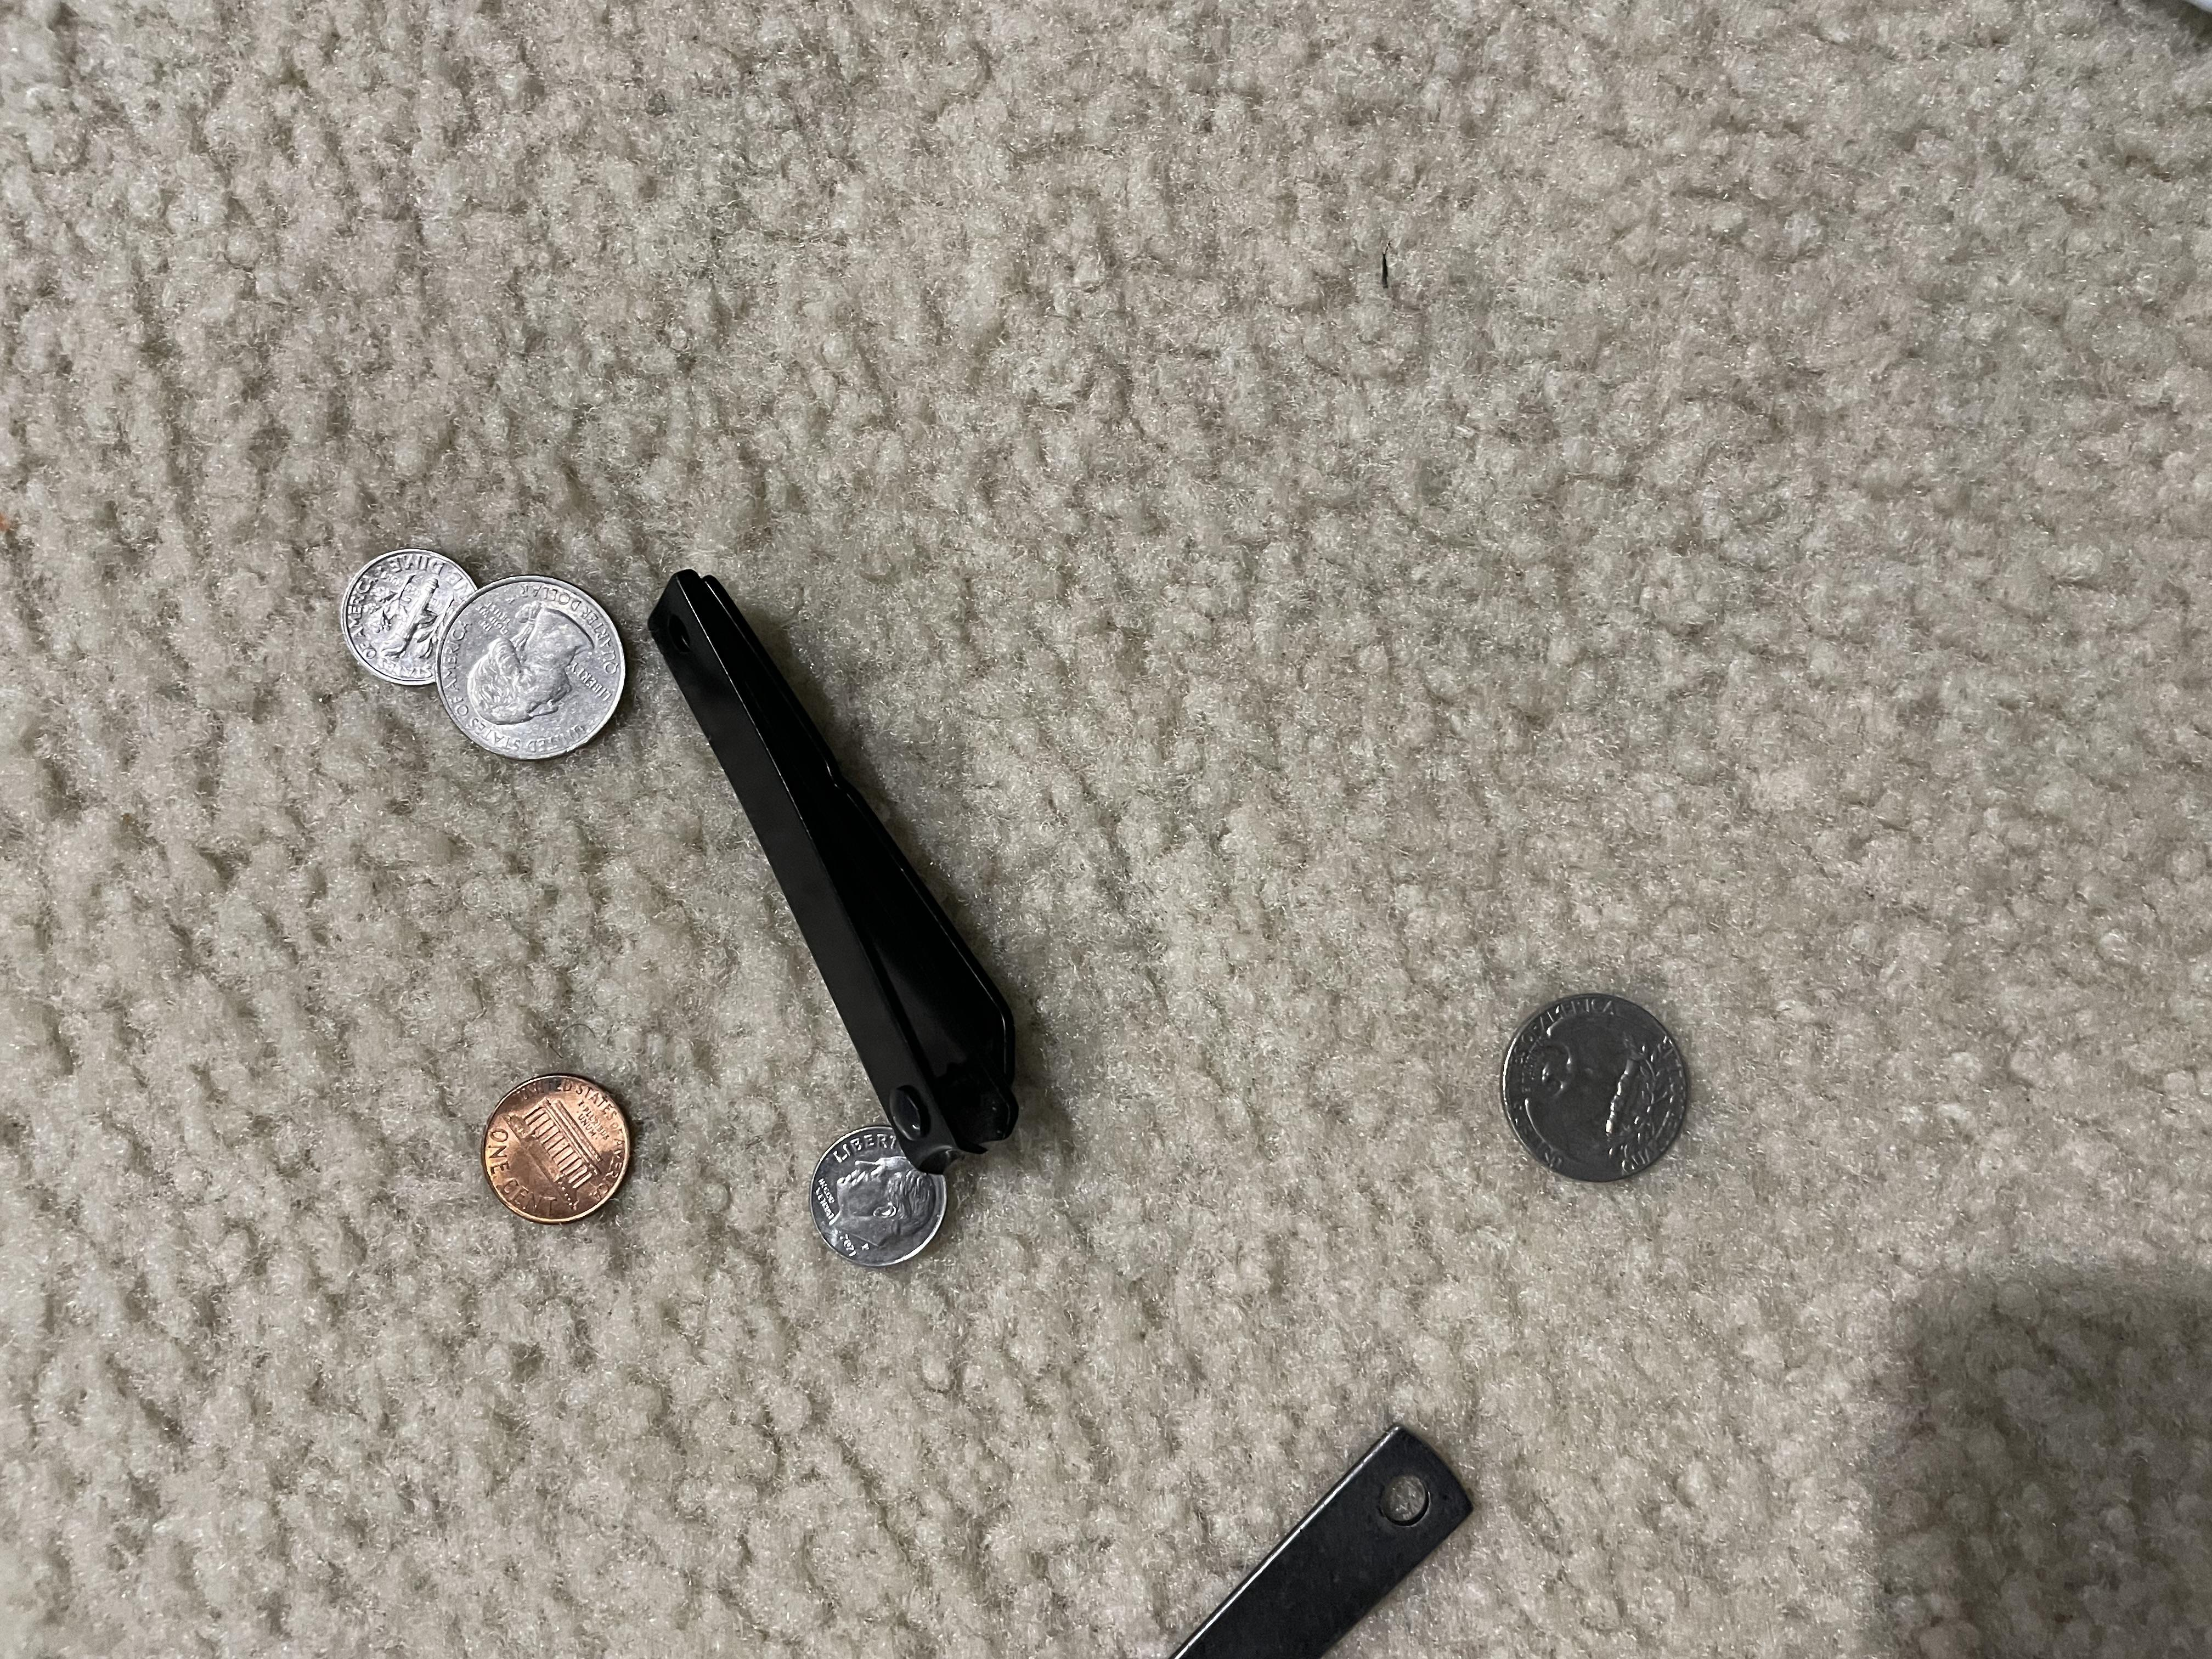Dime: (338, 549, 481, 690), (815, 1127, 948, 1270)
Penny: (472, 1075, 648, 1225)
Quarter: (1496, 986, 1705, 1197), (437, 570, 643, 770)
